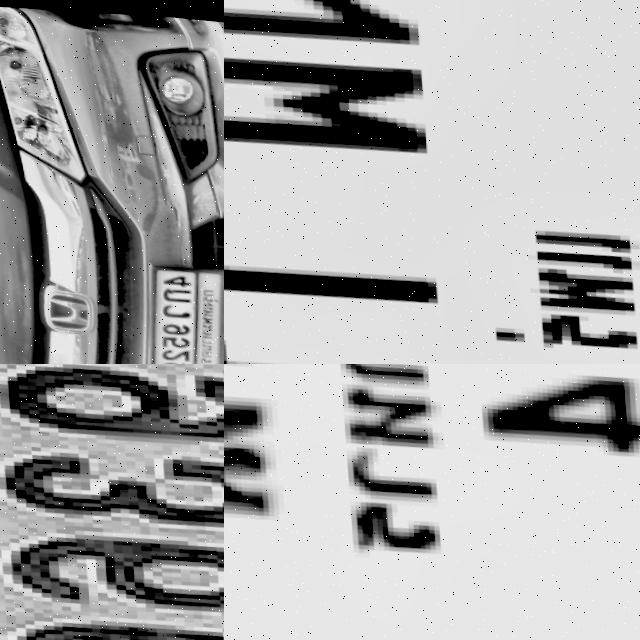license-plate: (224, 0, 640, 364), (224, 364, 640, 640), (0, 364, 224, 640), (134, 248, 224, 364)
